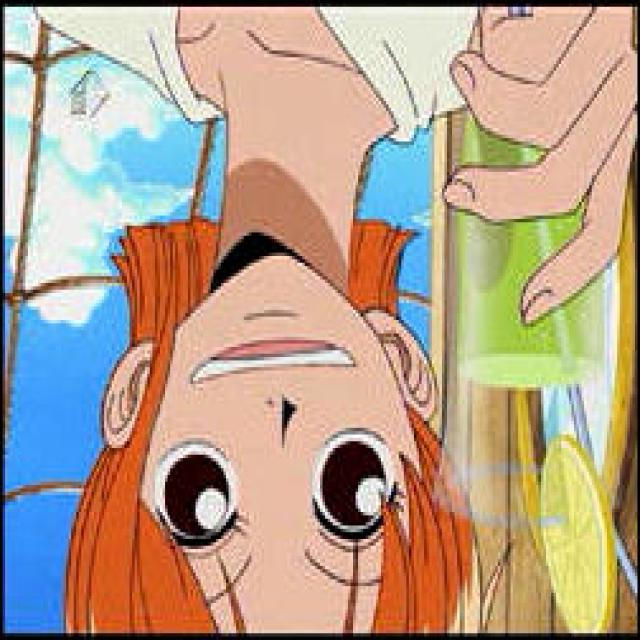Nami: (61, 4, 472, 634)
